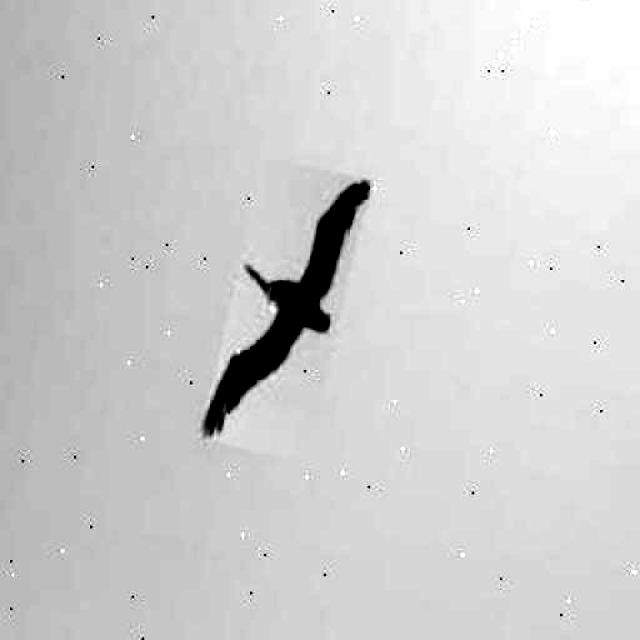airplane: (199, 156, 371, 462)
